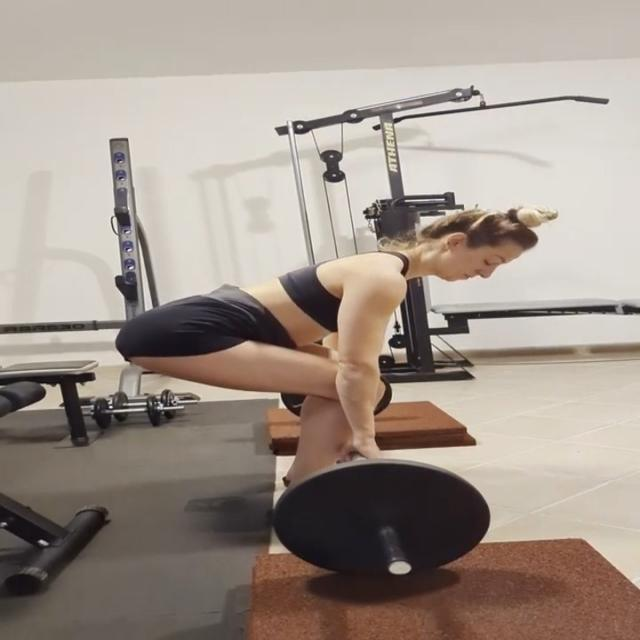barbell: (262, 455, 497, 586)
